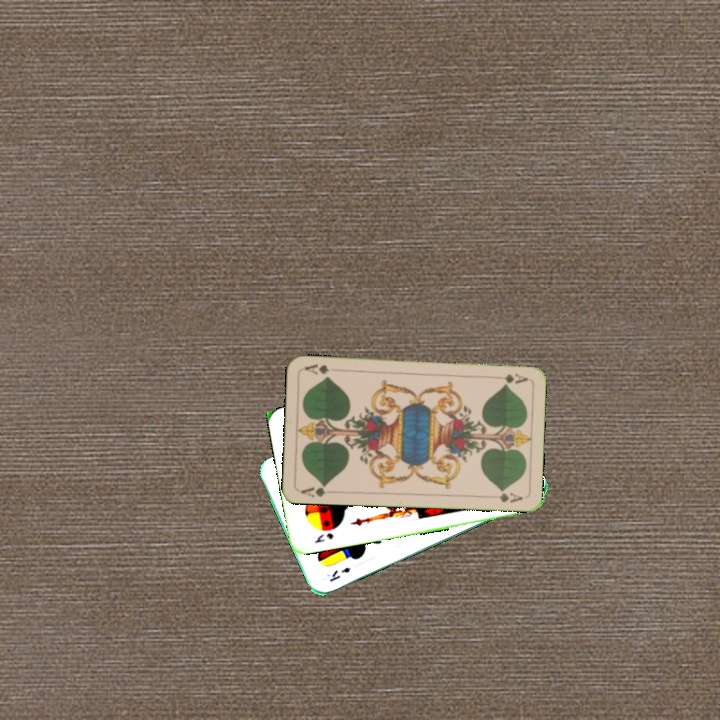EK: (326, 563, 353, 584)
GA: (489, 369, 530, 386), (297, 480, 330, 499)
SK: (310, 529, 336, 546)
